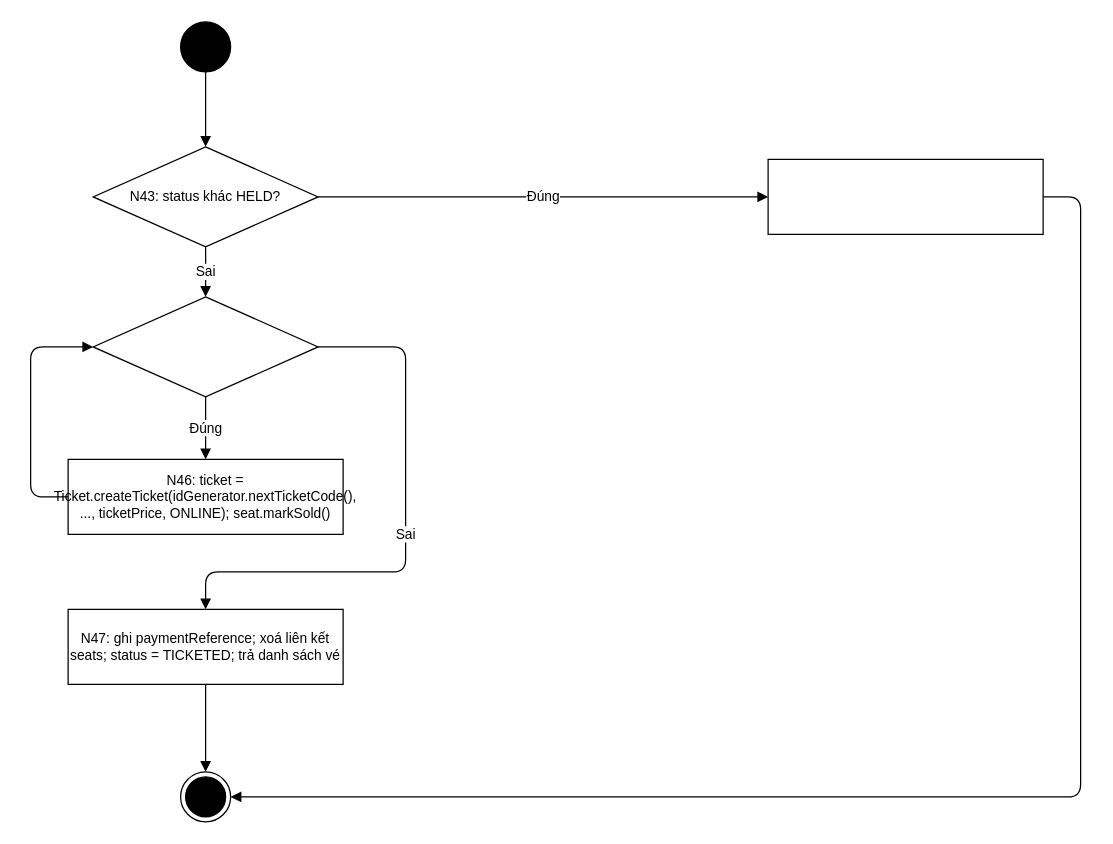
This 1113x844 diagram has some shape labels left out. Each missing label, with the centre of its shape:
N44: ném InvalidStateException: point 905,196
N45: còn Seat chưa phát hành vé?: point 205,346
